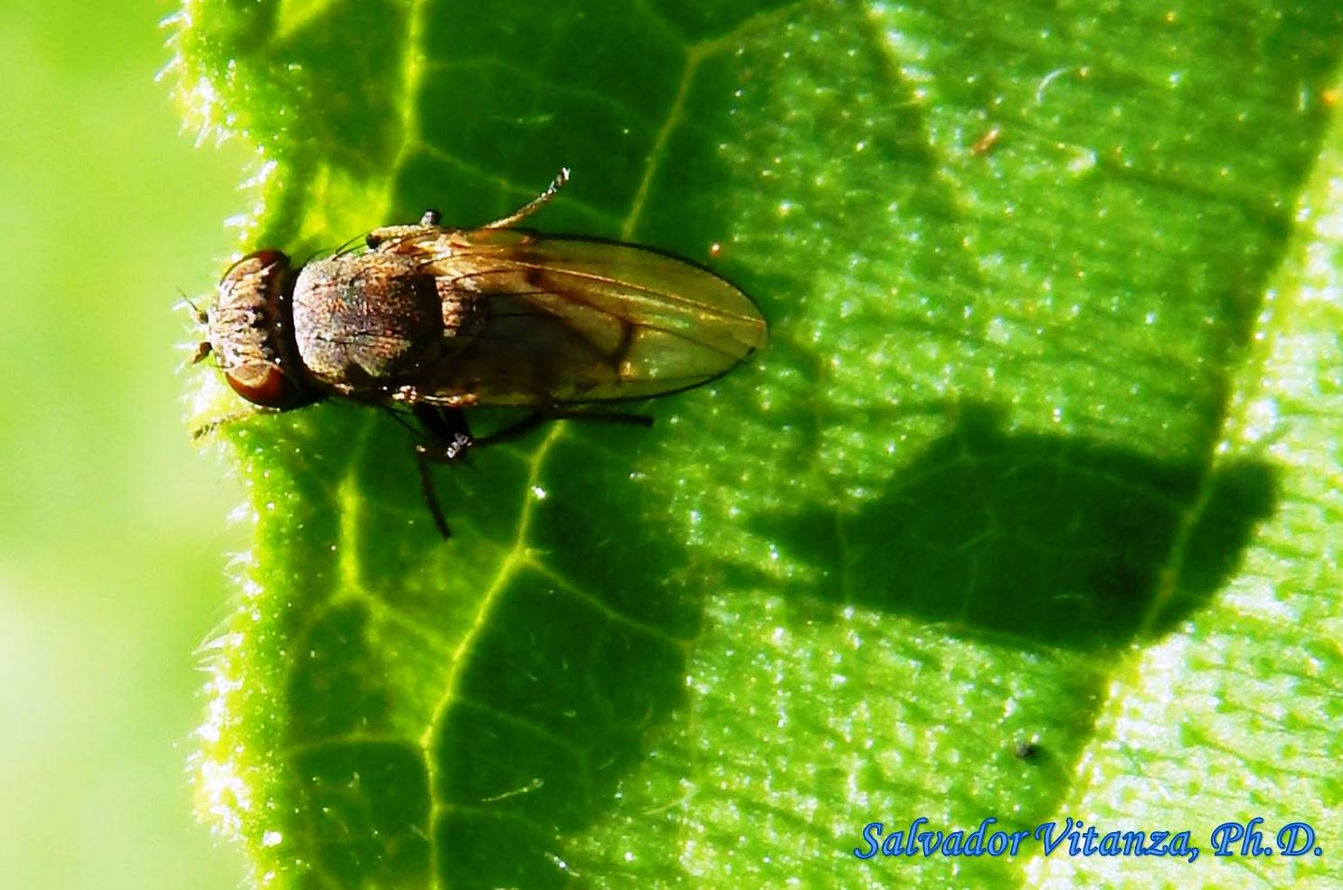Ephydridae: (177, 164, 770, 539)
